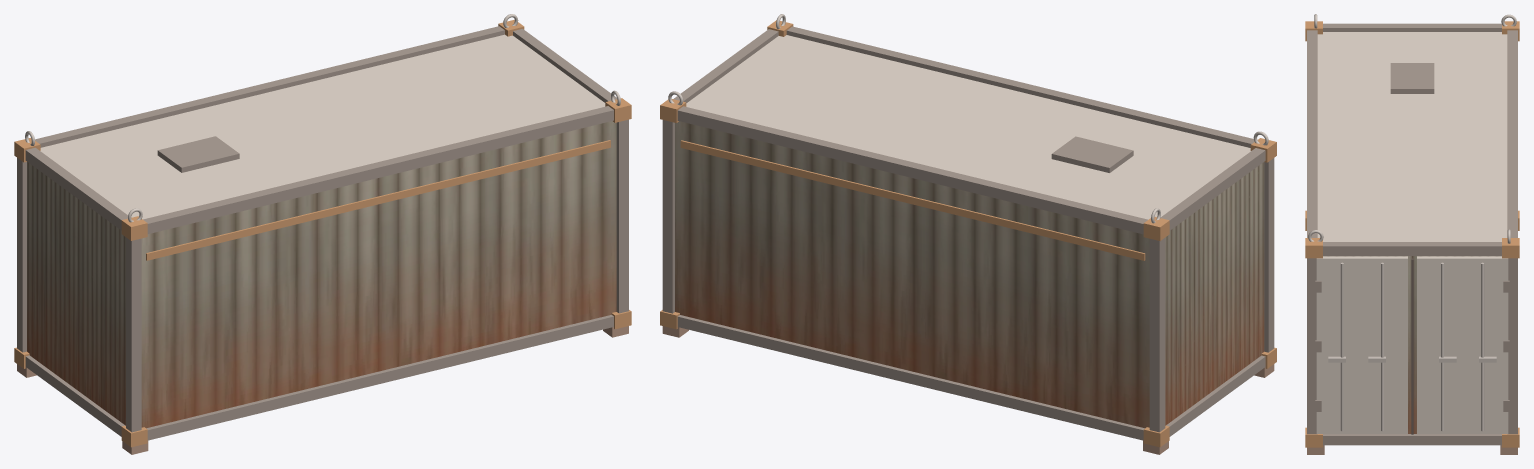
File: D03_cargo_container_6m.glb
3 renders of one model, left to right at view 1: azimuth 30°, elevation 25°; view 2: azimuth 150°, elevation 25°; view 3: azimuth 270°, elevation 25°, orthographic. The views are drawn at different scales.
Parts seen in each view (by area): view 1: container_body, frame_rail; view 2: container_body, frame_rail; view 3: container_body, frame_rail, lifting_eye, foot.
Boxes of the visible parts, x1,y1,x2,y2 form: container_body: (14, 19, 631, 447); frame_rail: (17, 26, 628, 440); container_body: (660, 20, 1276, 447); frame_rail: (662, 26, 1274, 440); container_body: (1305, 21, 1519, 447); frame_rail: (1307, 23, 1517, 445); lifting_eye: (1308, 14, 1516, 431); foot: (1307, 445, 1517, 454).
Bounding box in the file's own units: 6.09 × 2.78 × 2.44.
5 materials, 1 textured.
